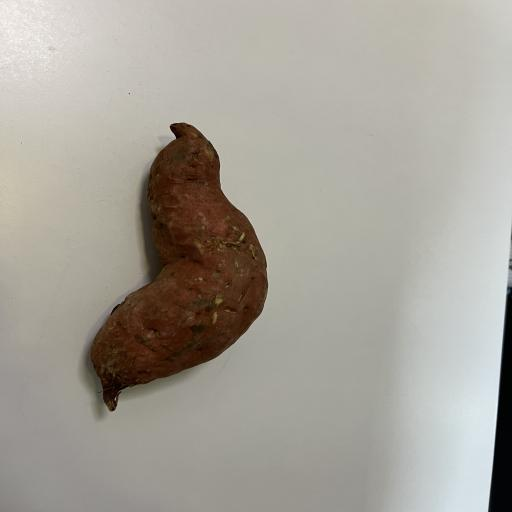sweet_potato: (61, 106, 285, 416)
